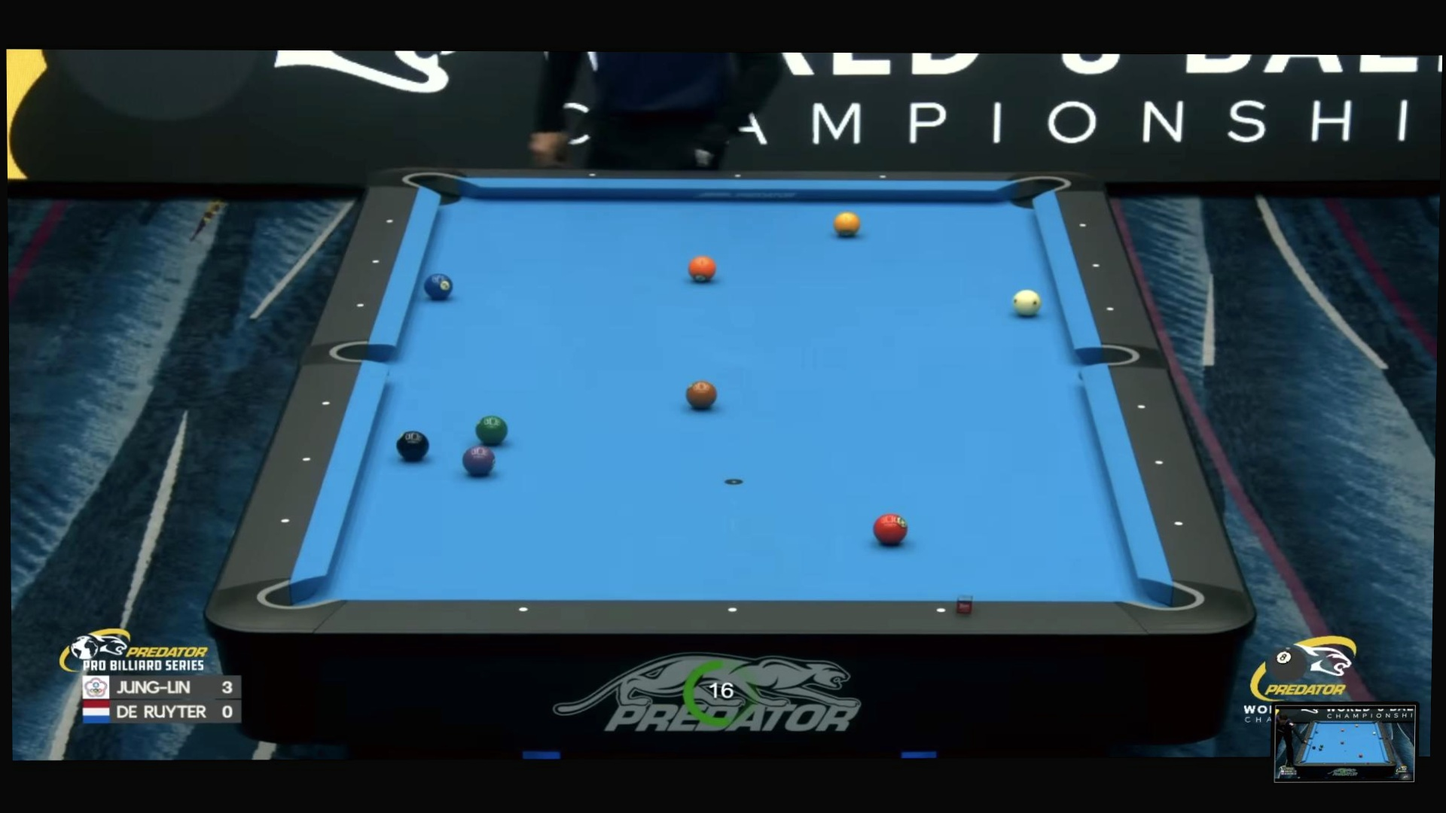Black: (726, 604, 739, 617), (516, 604, 529, 616), (934, 605, 947, 617), (1172, 518, 1184, 529), (1135, 401, 1147, 412), (370, 257, 382, 268), (383, 215, 394, 226), (1153, 458, 1165, 468), (354, 300, 366, 310), (280, 516, 291, 526), (301, 455, 312, 465), (320, 398, 331, 408), (1106, 304, 1115, 313), (1091, 262, 1100, 270), (1079, 221, 1088, 229), (879, 172, 888, 180), (588, 171, 596, 179), (734, 173, 742, 180)
Cue: (873, 513, 908, 545), (462, 445, 496, 475), (685, 379, 717, 409), (475, 415, 508, 444), (687, 256, 716, 282), (424, 273, 453, 299), (834, 212, 861, 236)
Solid: (396, 431, 430, 461)
Stripe: (1012, 289, 1042, 316)
